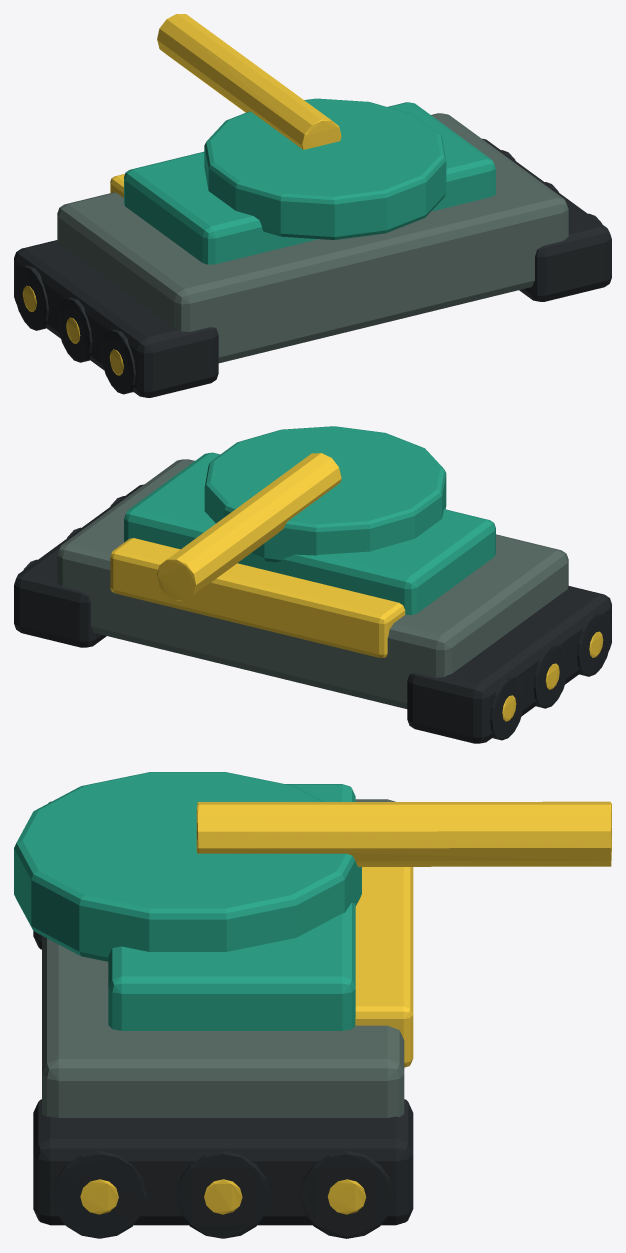
Rendered from SM_Coalition_CO_MonsoonArtillery_LOD1.fbx.
3 renders of one model, top to bottom at view 1: azimuth 30°, elevation 25°; view 2: azimuth 150°, elevation 25°; view 3: azimuth 270°, elevation 25°, orthographic. The views are drawn at different scales.
Visible parts, largest first — view 1: LOD01_SM_Coalition_CO_MonsoonArtillery; view 2: LOD01_SM_Coalition_CO_MonsoonArtillery; view 3: LOD01_SM_Coalition_CO_MonsoonArtillery.
Part boxes in pixels (bbox=[...]): LOD01_SM_Coalition_CO_MonsoonArtillery: bbox=[14, 14, 611, 397]; LOD01_SM_Coalition_CO_MonsoonArtillery: bbox=[14, 426, 611, 743]; LOD01_SM_Coalition_CO_MonsoonArtillery: bbox=[14, 772, 611, 1238].
Bounding box in the file's own units: 572 × 433 × 215.
